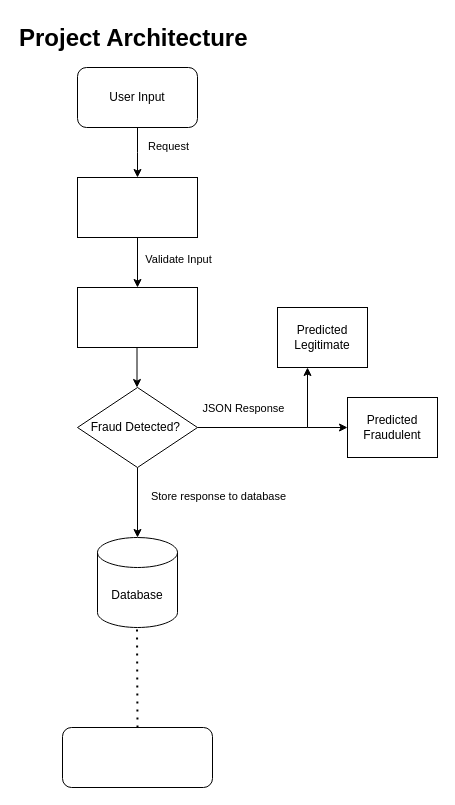
Image size: 455x805. Some labels were removed from this diagram. The centre of each missing label's shape, as x and y in pixels:
"Deployment Environment (Docker)" belongs at point (137, 757).
"FastAPI Server" belongs at point (137, 207).
"ML Pipeline" belongs at point (137, 317).
